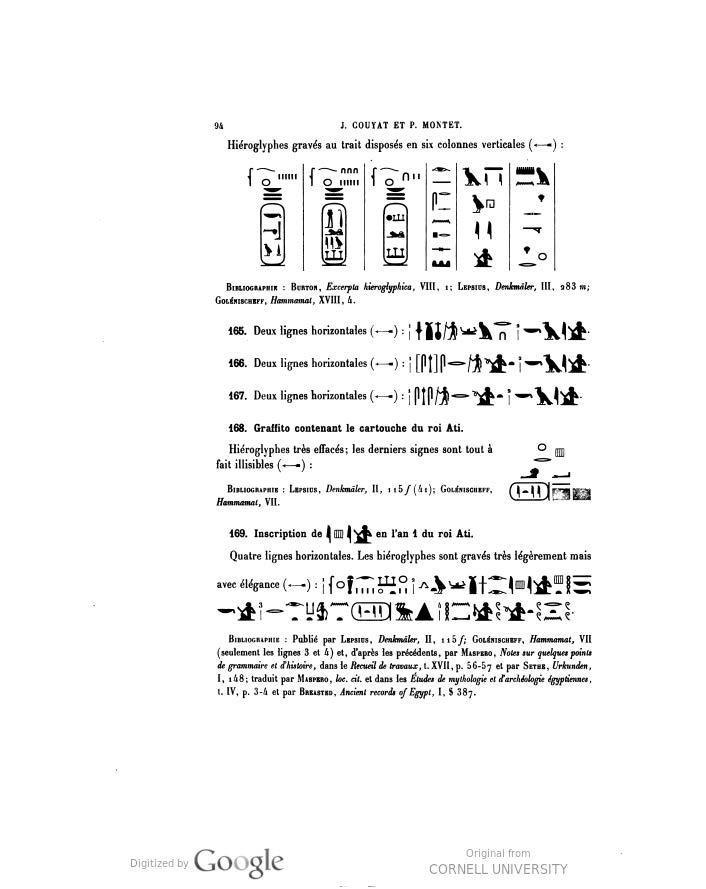circle: (248, 199, 298, 275), (309, 198, 360, 268), (378, 199, 417, 275), (345, 589, 403, 630), (503, 474, 555, 513)
